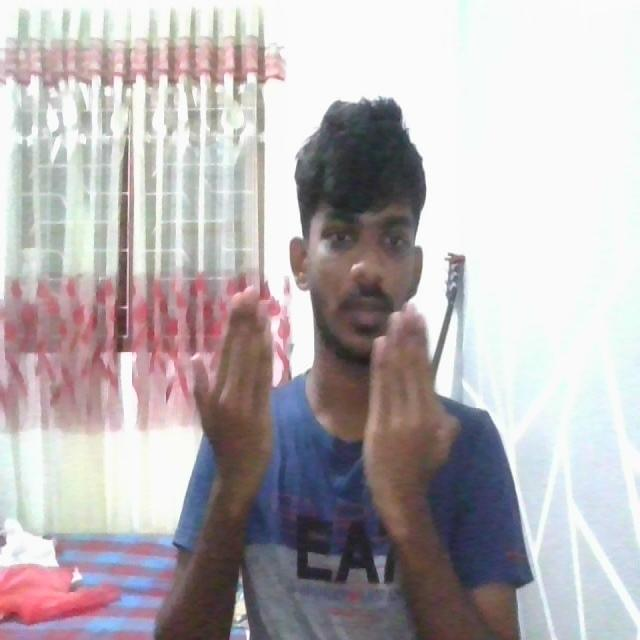ThankYou: (154, 289, 530, 640)
